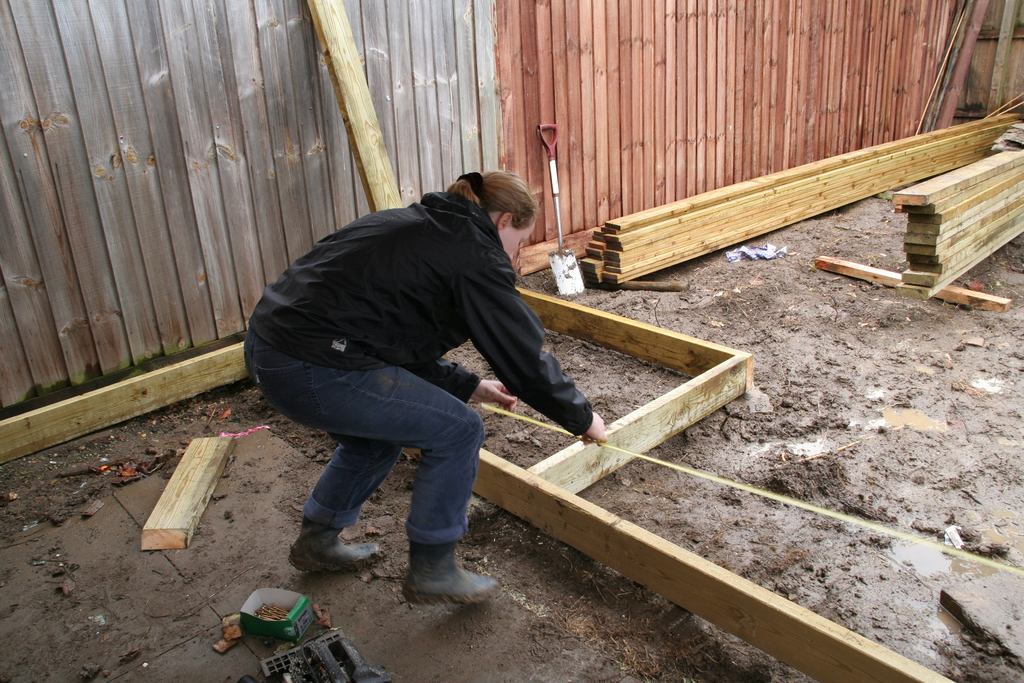Person: (244, 169, 608, 604)
